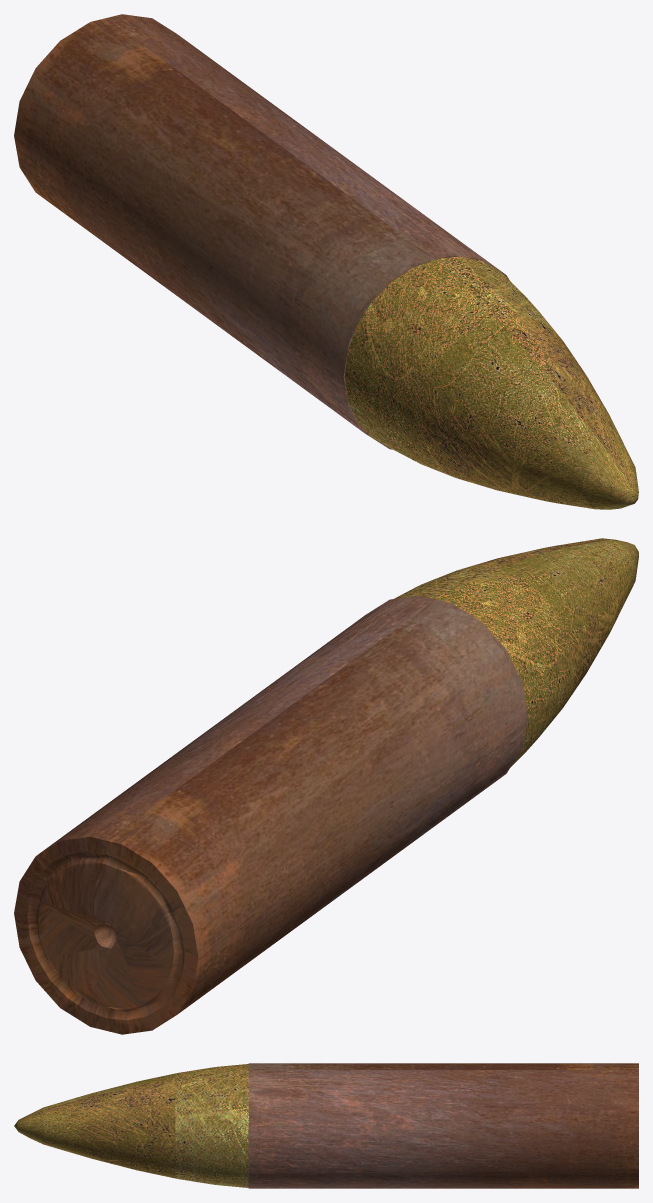
File: shell_type1_lod0.FBX
The picture shows the model from 3 angles, top to bottom: view 1: azimuth 30°, elevation 25°; view 2: azimuth 150°, elevation 25°; view 3: azimuth 270°, elevation 25°; orthographic projection. The views are drawn at different scales.
Parts seen in each view (by area): view 1: Cylinder001, top; view 2: Cylinder001, top; view 3: Cylinder001, top.
Part boxes in pixels (box(x1,y1,x2,y2)): Cylinder001: box(14, 14, 509, 449); top: box(344, 256, 638, 509); Cylinder001: box(14, 595, 527, 1034); top: box(394, 538, 638, 767); Cylinder001: box(248, 1063, 638, 1188); top: box(14, 1064, 248, 1187).
Bounding box in the file's own units: 34.65 × 34.12 × 172.
Materials: 3 (2 with a texture image).
